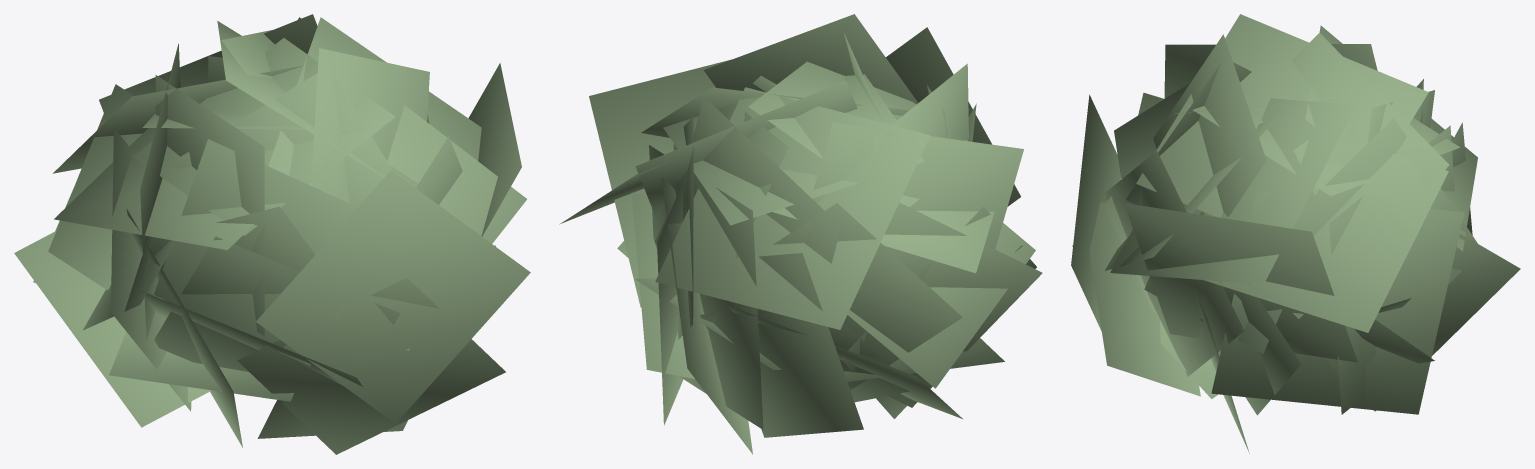
The model's file is croton_fringe.glb.
3 renders of one model, left to right at view 1: azimuth 30°, elevation 25°; view 2: azimuth 150°, elevation 25°; view 3: azimuth 270°, elevation 25°, orthographic. The views are drawn at different scales.
Visible parts, largest first — view 1: croton_fringe; view 2: croton_fringe; view 3: croton_fringe.
Part boxes in pixels (<box>): croton_fringe: <box>14,14,530,454</box>; croton_fringe: <box>559,14,1042,454</box>; croton_fringe: <box>1071,14,1520,453</box>.
Bounding box in the file's own units: 2.03 × 1.87 × 2.02.
